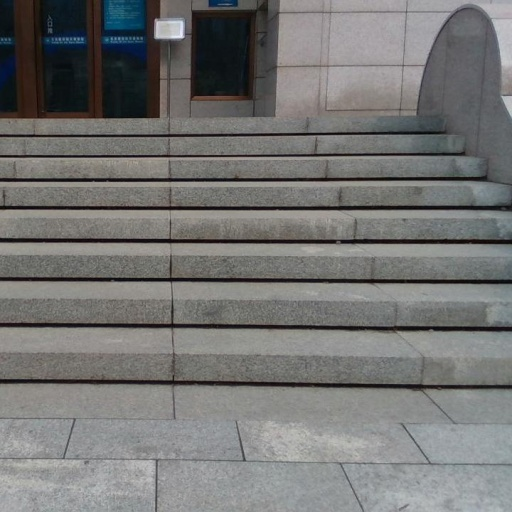Stairs: (0, 117, 512, 512)
